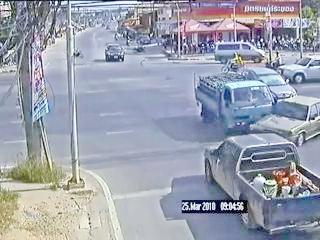Car: (206, 135, 320, 228), (196, 73, 271, 125), (251, 97, 318, 140), (241, 69, 296, 100), (213, 43, 267, 63), (283, 58, 320, 82), (103, 42, 123, 63)
Major Accident: (197, 85, 320, 143)
Motor: (223, 52, 246, 71), (265, 55, 286, 70)
